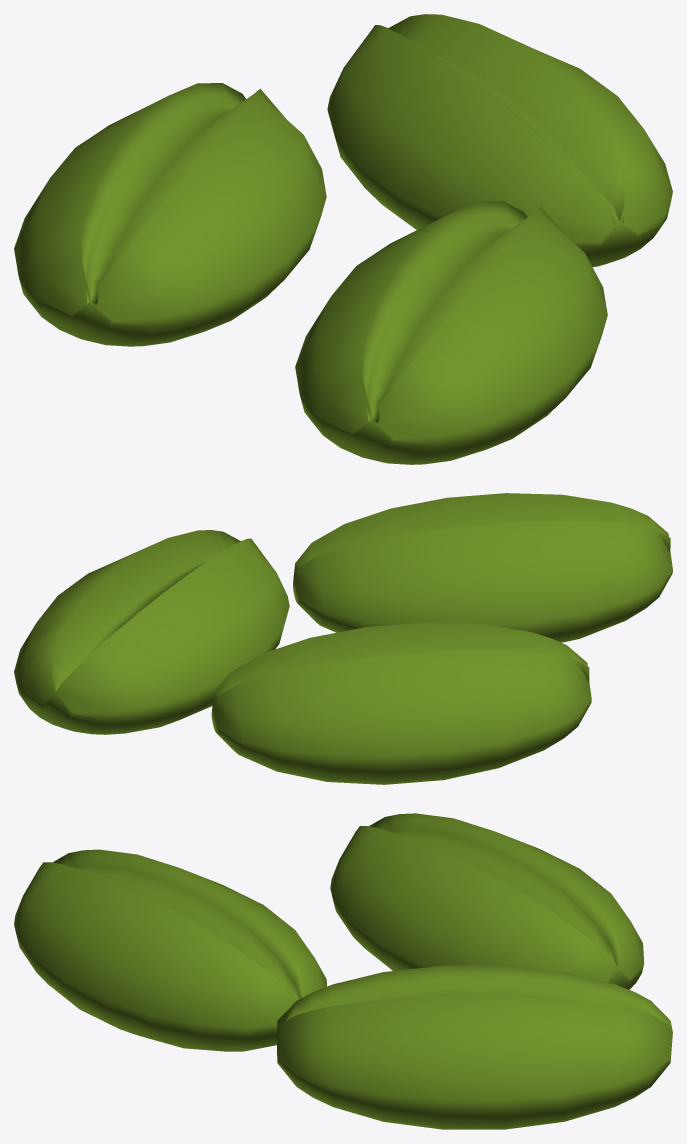
Rendered from SeedV2.obj.
3 renders of one model, top to bottom at view 1: azimuth 30°, elevation 25°; view 2: azimuth 150°, elevation 25°; view 3: azimuth 270°, elevation 25°, orthographic. The views are drawn at different scales.
Visible parts, largest first — view 1: pSphere4; view 2: pSphere4; view 3: pSphere4.
Boxes of the visible parts, x1,y1,x2,y2 form: pSphere4: (14,14,672,464); pSphere4: (14,493,672,784); pSphere4: (14,813,672,1129).
Size of the model in its own units: 0.195 by 0.0477 by 0.2168.
Materials: 1 (1 with a texture image).
